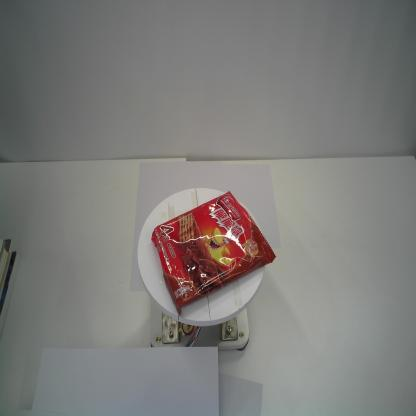Dessert: (151, 190, 276, 316)
